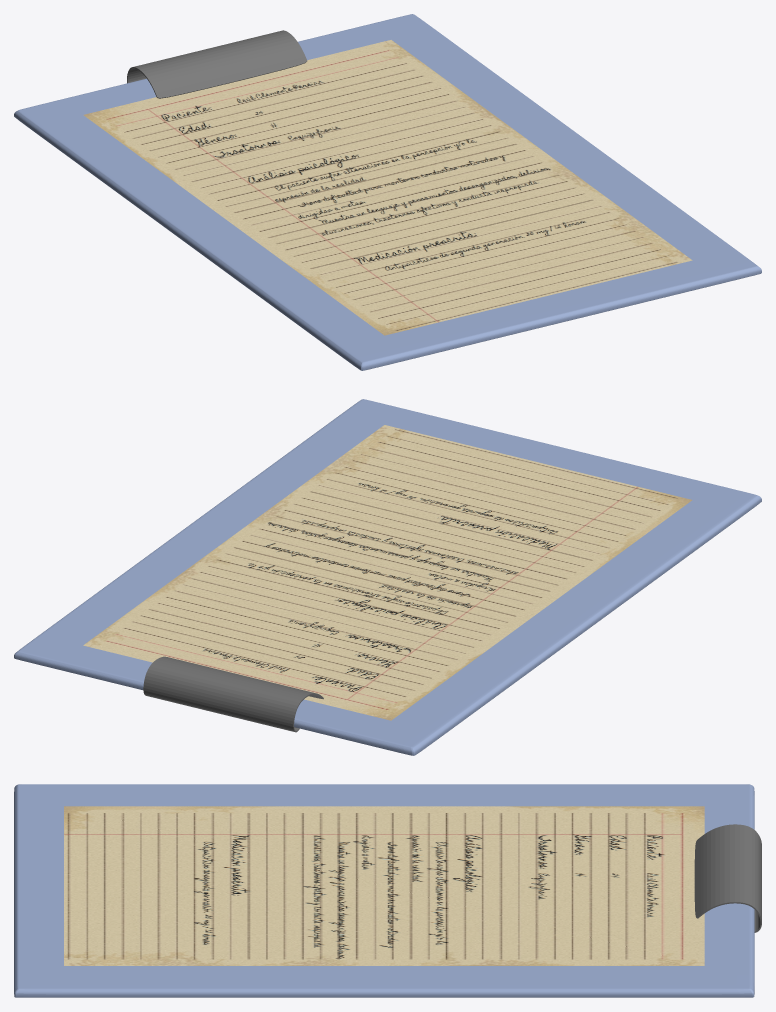
File: FichaMedica.fbx
3 renders of one model, top to bottom at view 1: azimuth 30°, elevation 25°; view 2: azimuth 150°, elevation 25°; view 3: azimuth 270°, elevation 25°, orthographic. The views are drawn at different scales.
Parts seen in each view (by area): view 1: Plane_001, Plane, Plane_002; view 2: Plane_001, Plane, Plane_002; view 3: Plane_001, Plane, Plane_002.
Part boxes in pixels (<box>): Plane_001: <box>83,40,692,335</box>; Plane: <box>14,14,761,370</box>; Plane_002: <box>127,30,307,98</box>; Plane_001: <box>83,425,692,720</box>; Plane: <box>14,399,761,755</box>; Plane_002: <box>143,656,323,732</box>; Plane_001: <box>64,806,704,965</box>; Plane: <box>14,784,754,997</box>; Plane_002: <box>694,824,761,932</box>.
Bounding box in the file's own units: 1.33 × 0.0918 × 2.02.
